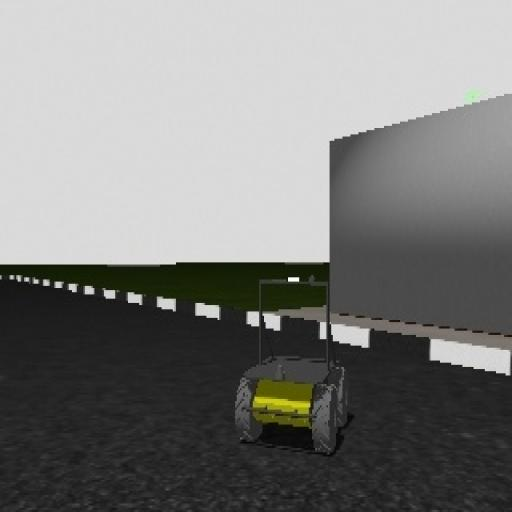huskya200: (218, 268, 355, 471)
